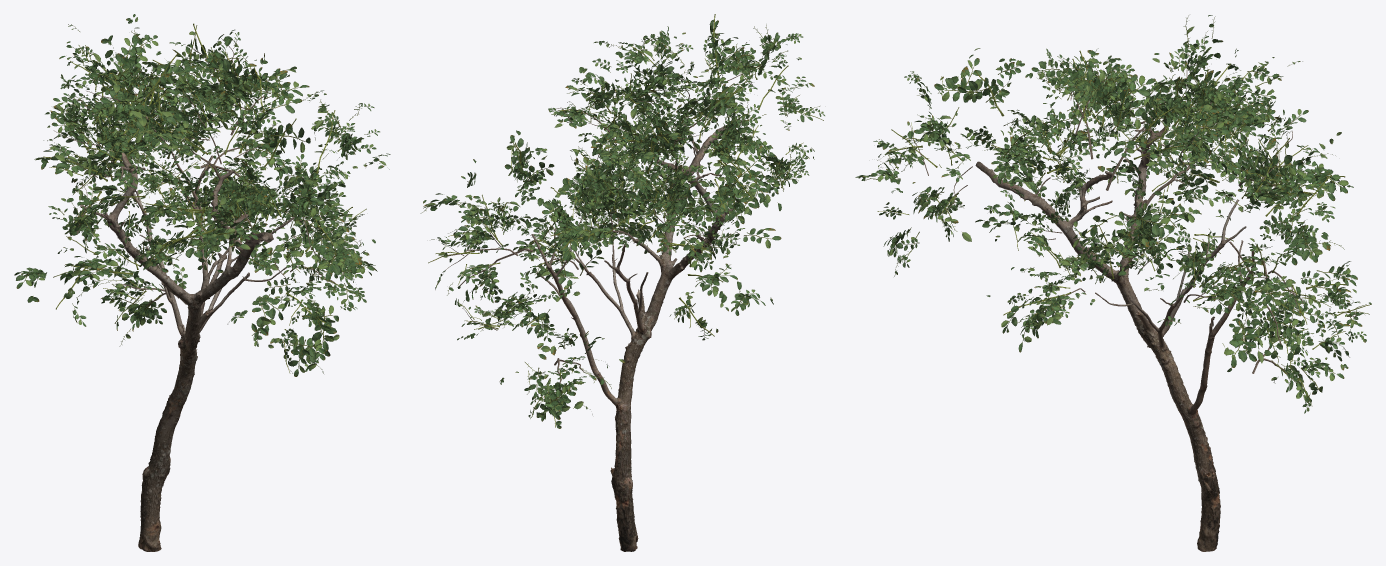
File: tree_small_02_lite.glb
The picture shows the model from 3 angles, left to right: view 1: azimuth 30°, elevation 25°; view 2: azimuth 150°, elevation 25°; view 3: azimuth 270°, elevation 25°; orthographic projection. The views are drawn at different scales.
Parts seen in each view (by area): view 1: tree_small_02_LOD0_7876d4, tree_small_02_LOD0_72d16b, tree_small_02_LOD0_4cb67a; view 2: tree_small_02_LOD0_7876d4, tree_small_02_LOD0_72d16b, tree_small_02_LOD0_4cb67a; view 3: tree_small_02_LOD0_7876d4, tree_small_02_LOD0_72d16b, tree_small_02_LOD0_4cb67a.
Part boxes in pixels (box(x1,y1,x2,y2)): tree_small_02_LOD0_7876d4: box(14, 14, 390, 376); tree_small_02_LOD0_72d16b: box(80, 152, 294, 551); tree_small_02_LOD0_4cb67a: box(53, 38, 334, 306); tree_small_02_LOD0_7876d4: box(420, 14, 824, 428); tree_small_02_LOD0_72d16b: box(531, 119, 742, 551); tree_small_02_LOD0_4cb67a: box(445, 61, 769, 388); tree_small_02_LOD0_7876d4: box(855, 15, 1371, 413); tree_small_02_LOD0_72d16b: box(975, 121, 1254, 551); tree_small_02_LOD0_4cb67a: box(910, 53, 1356, 373).
Bounding box in the file's own units: 2.96 × 4.57 × 4.29.
3 materials, 3 textured.
